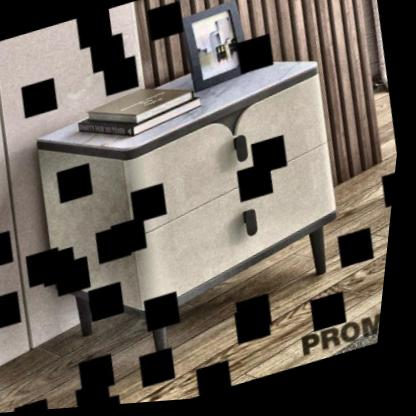Nightstand: (18, 41, 367, 350)
